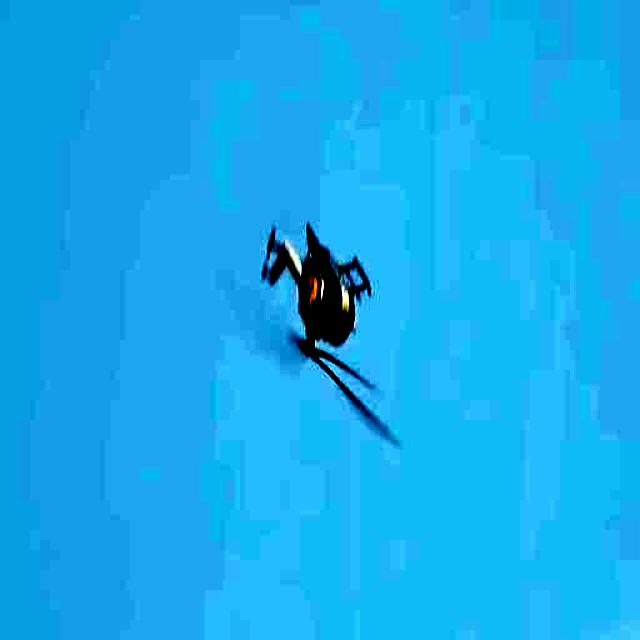drone: (250, 158, 410, 474)
